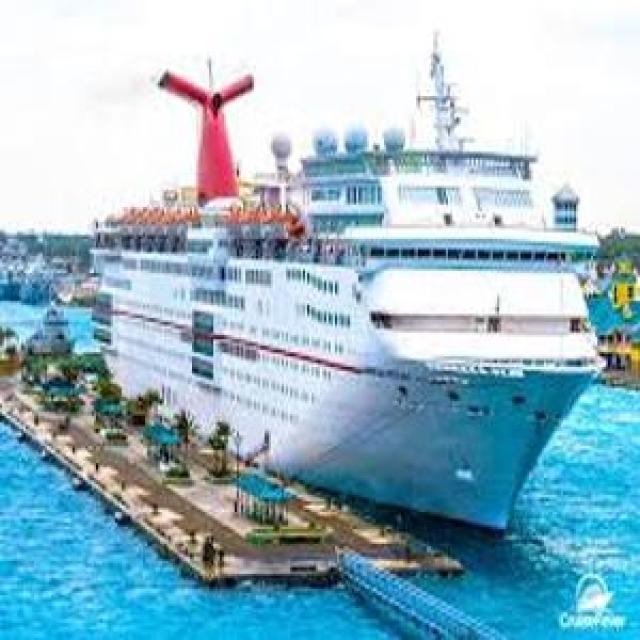passenger ship: (83, 43, 607, 525)
